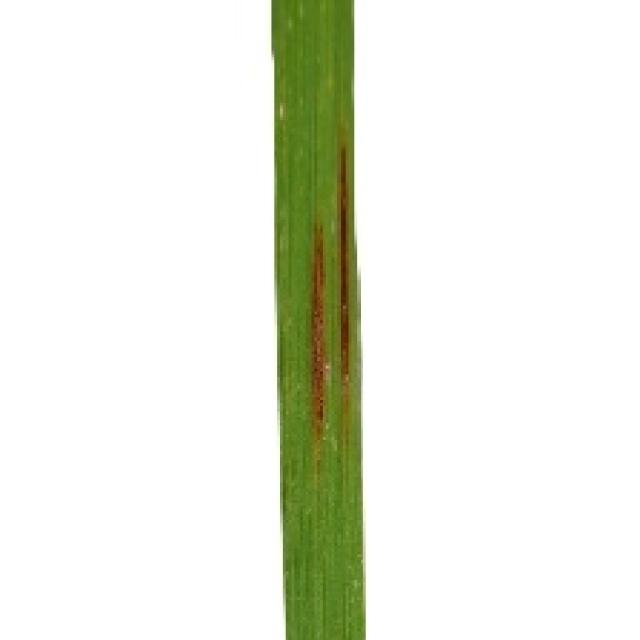Unhealthy: (335, 124, 351, 477), (310, 218, 325, 442)
